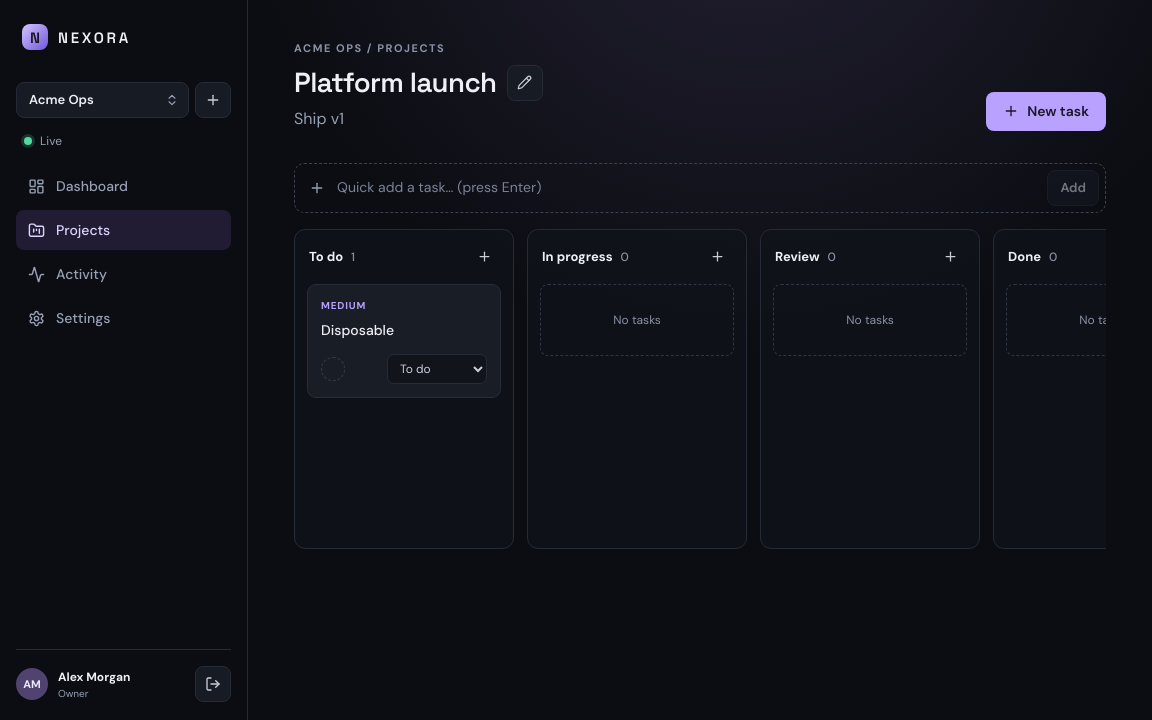
Test: BoardPage › deletes a task after confirmation
Click the button "Disposable": (358, 330) [321,320,394,340]
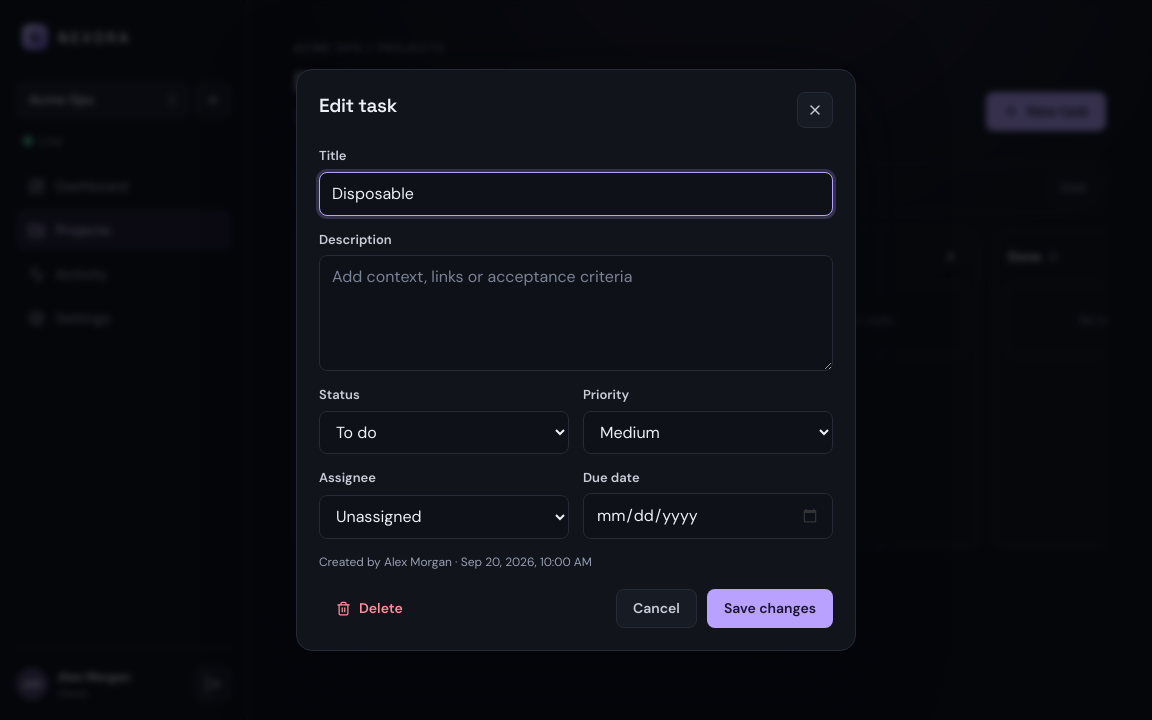
Click the button "Delete": (369, 608) [319,589,420,628]
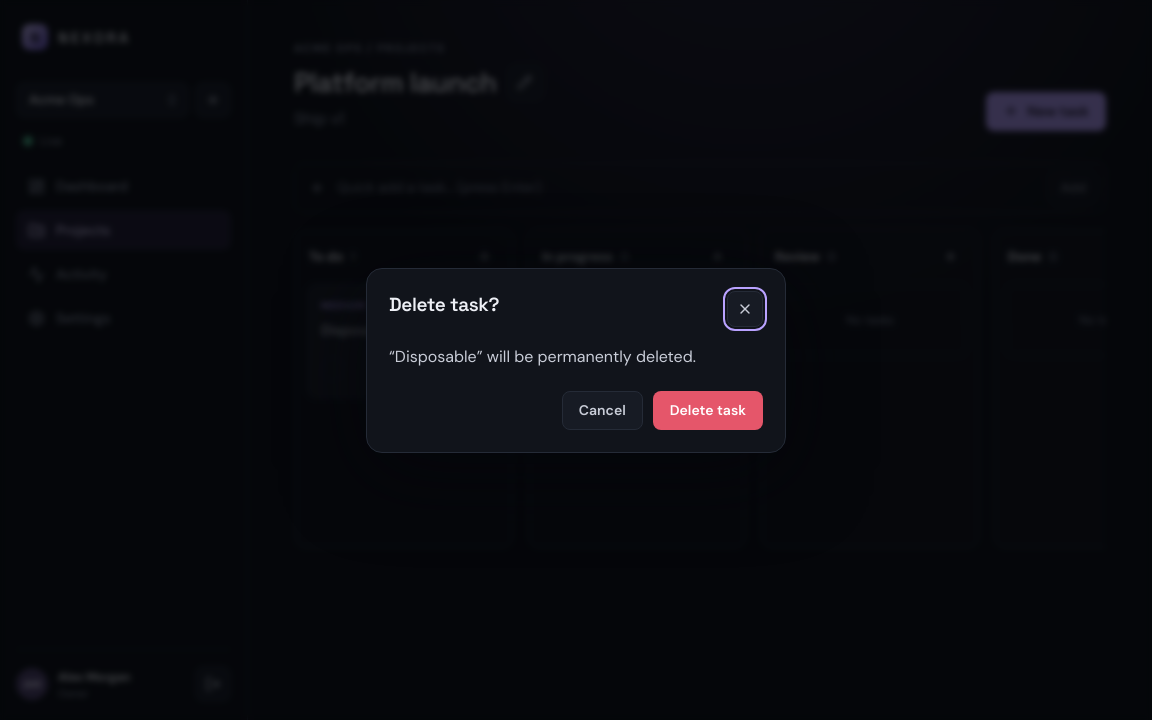
Click the button "Delete task": (708, 410) [653,390,763,430]
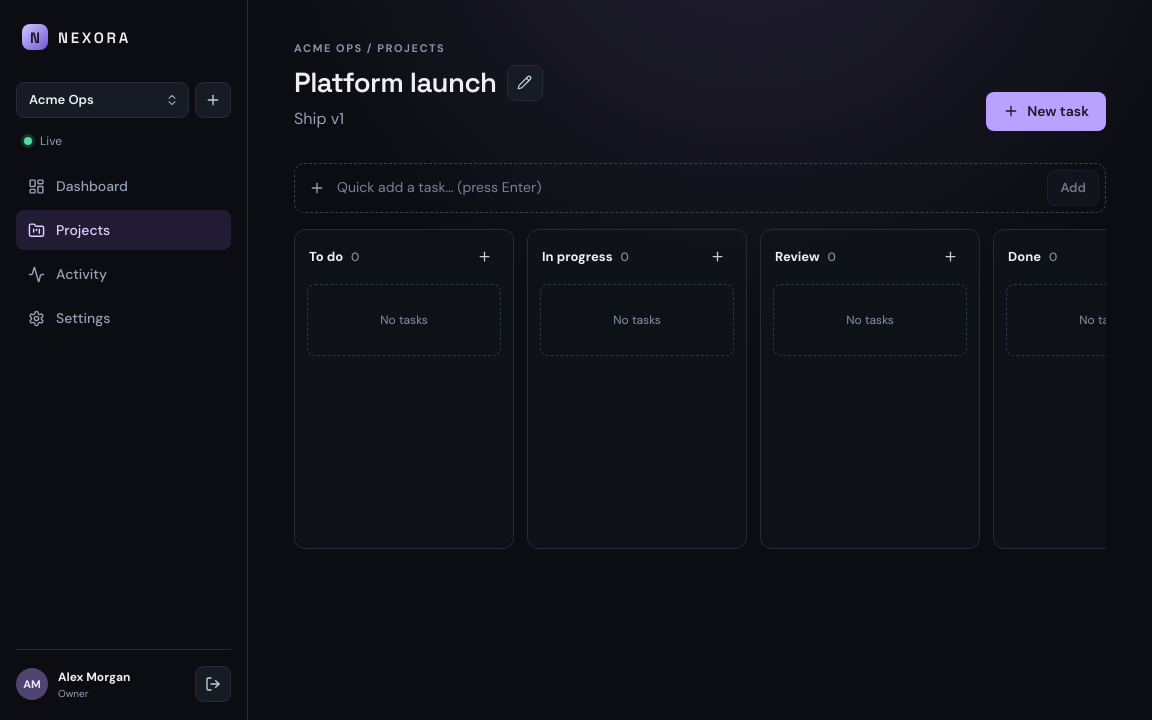
Expected: the button "Disposable" is gone
